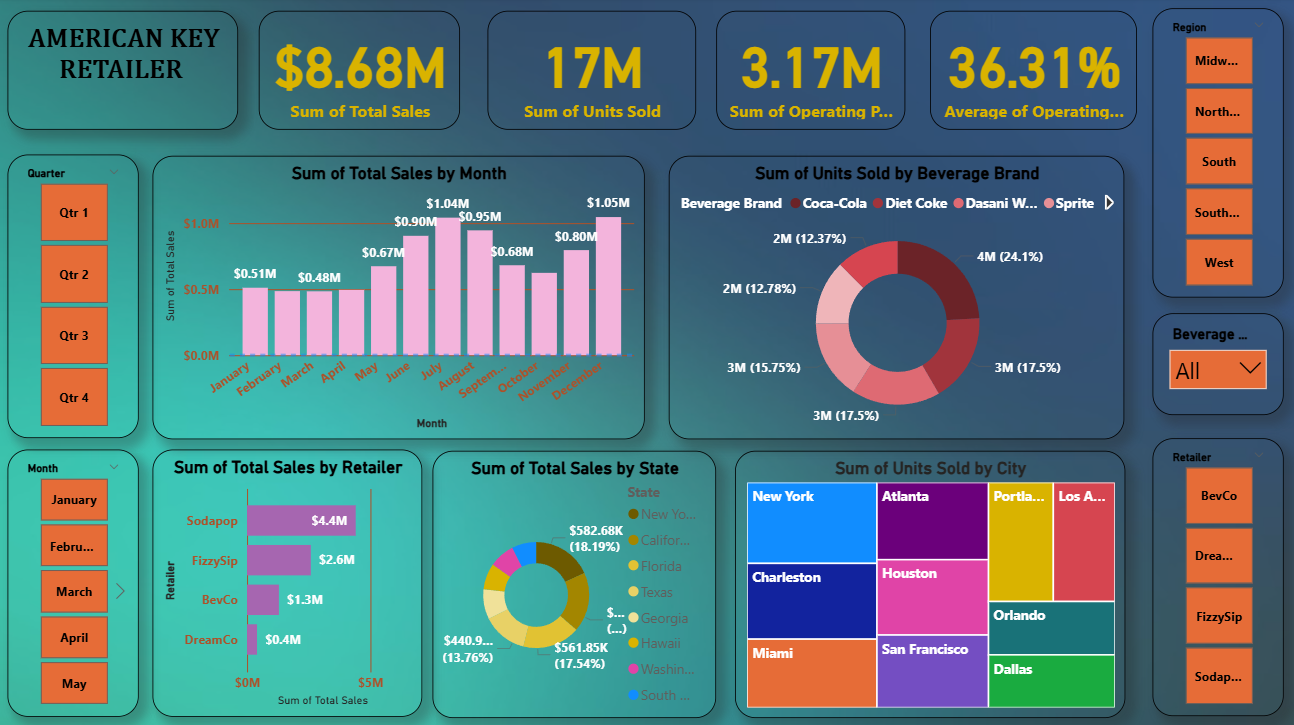

The dashboard page shown, as its layout file describes it:
{"tool":"powerbi","page":{"name":"Page 1","canvas":[1280,720],"ordinal":0},"visuals":[{"type":"slicer","fields":{"Values":["Sheet1.Invoice Date.Variation.Date Hierarchy.Month"]},"box":[12.3,444.6,129,262.1],"z":0},{"type":"slicer","fields":{"Values":["Sheet1.Invoice Date.Variation.Date Hierarchy.Quarter"]},"box":[12.3,155.1,129,278.6],"z":1000},{"type":"slicer","fields":{"Values":["Sheet1.Region"]},"box":[1136.2,11,129,284],"z":2000},{"type":"slicer","fields":{"Values":["Sheet1.Retailer"]},"box":[1136.2,433.6,129,273.1],"z":3000},{"type":"slicer","fields":{"Values":["Sheet1.Beverage Brand"]},"box":[1136.2,310.1,129,100.2],"z":4000},{"type":"card","fields":{"Values":["Sum(Sheet1.Total Sales)"]},"box":[259.3,13.7,197.6,116.6],"z":5000},{"type":"card","fields":{"Values":["Sum(Sheet1.Units Sold)"]},"box":[483,13.7,204.5,116.6],"z":6000},{"type":"card","fields":{"Values":["Sum(Sheet1.Operating Profit)"]},"box":[708.1,13.7,185.2,116.6],"z":7000},{"type":"card","fields":{"Values":["Avg(Sheet1.Operating Margin)"]},"box":[918,13.7,203.1,116.6],"z":8000},{"type":"columnChart","fields":{"Category":["Sheet1.Invoice Date.Variation.Date Hierarchy.Month"],"Y":["Sum(Sheet1.Total Sales)"]},"box":[155.1,156.4,483,278.6],"z":9000},{"type":"donutChart","fields":{"Y":["Sum(Sheet1.Units Sold)"],"Category":["Sheet1.Beverage Brand"]},"box":[661.4,156.4,447.3,278.6],"z":10000},{"type":"barChart","fields":{"Y":["Sum(Sheet1.Total Sales)"],"Category":["Sheet1.Retailer"]},"box":[155.1,444.6,264.8,262.1],"z":11000},{"type":"treemap","fields":{"Group":["Sheet1.City"],"Values":["Sum(Sheet1.Units Sold)"]},"box":[725.9,446,382.8,262.1],"z":12000},{"type":"donutChart","fields":{"Y":["Sum(Sheet1.Total Sales)"],"Category":["Sheet1.State"]},"box":[429.5,446,278.6,262.1],"z":13000},{"type":"textbox","box":[12.3,13.7,226.4,116.6],"z":14000}]}

Visuals, with their boxes in screenshot pixels (x1, y1, x2, y2), scaled from the page's 1280x720 canvas onto the 1294x725 screenshot:
slicer - Sheet1.Invoice Date.Variation.Date Hierarchy.Month: 12,448,143,712
slicer - Sheet1.Invoice Date.Variation.Date Hierarchy.Quarter: 12,156,143,437
slicer - Sheet1.Region: 1149,11,1279,297
slicer - Sheet1.Retailer: 1149,437,1279,712
slicer - Sheet1.Beverage Brand: 1149,312,1279,413
card - Sum(Sheet1.Total Sales): 262,14,462,131
card - Sum(Sheet1.Units Sold): 488,14,695,131
card - Sum(Sheet1.Operating Profit): 716,14,903,131
card - Avg(Sheet1.Operating Margin): 928,14,1133,131
columnChart - Sheet1.Invoice Date.Variation.Date Hierarchy.Month x Sum(Sheet1.Total Sales): 157,157,645,438
donutChart - Sum(Sheet1.Units Sold) x Sheet1.Beverage Brand: 669,157,1121,438
barChart - Sum(Sheet1.Total Sales) x Sheet1.Retailer: 157,448,424,712
treemap - Sheet1.City x Sum(Sheet1.Units Sold): 734,449,1121,713
donutChart - Sum(Sheet1.Total Sales) x Sheet1.State: 434,449,716,713
textbox: 12,14,241,131
